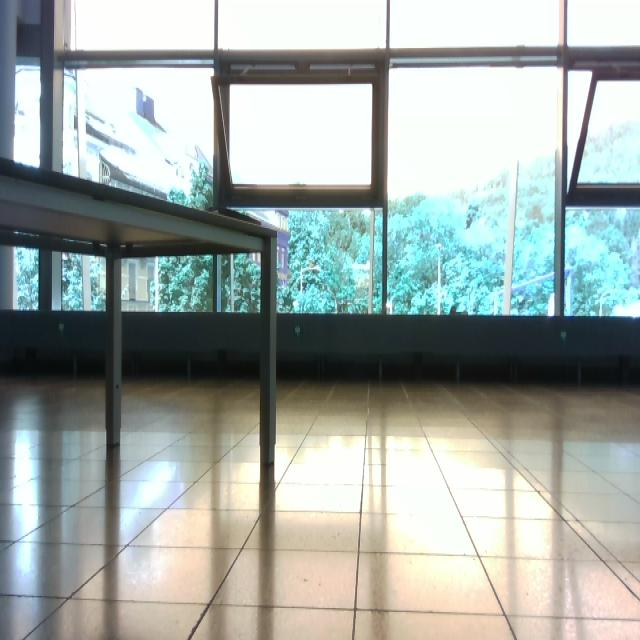door: (110, 245, 274, 465)
light bulb: (548, 292, 555, 317)
pillar: (105, 249, 123, 446)
tiled floor: (2, 376, 639, 638)
window: (1, 1, 640, 322), (386, 60, 561, 317)
